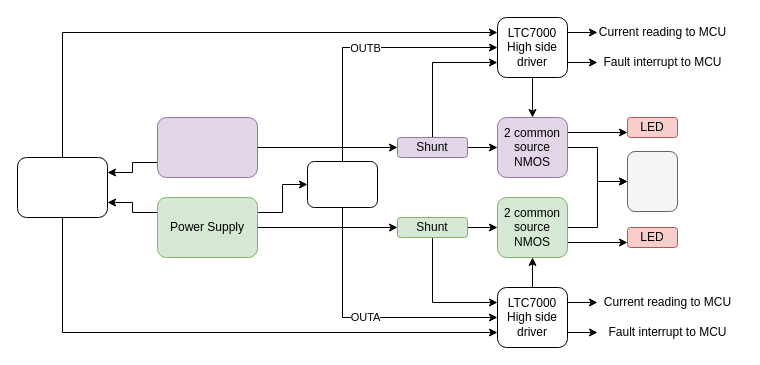
This 760x365 diagram has some shape labels left out. Each missing label, with the centre of its shape:
"Battery" goes at pixel 207 147.
"Common cathode power shottky" goes at pixel 62 187.
"Rover" goes at pixel 652 181.
"TPS3701 supervisor" goes at pixel 342 184.
